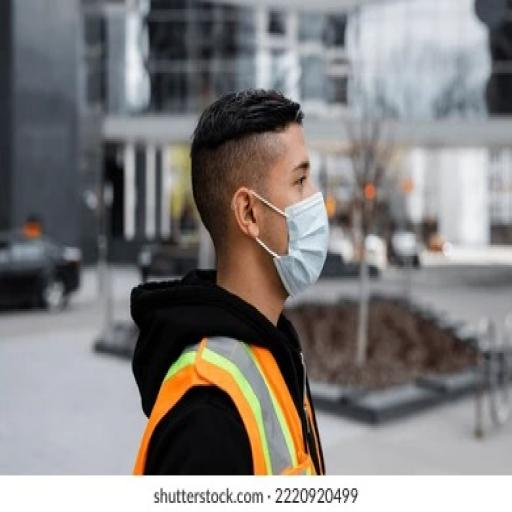mask: (282, 195, 336, 306)
